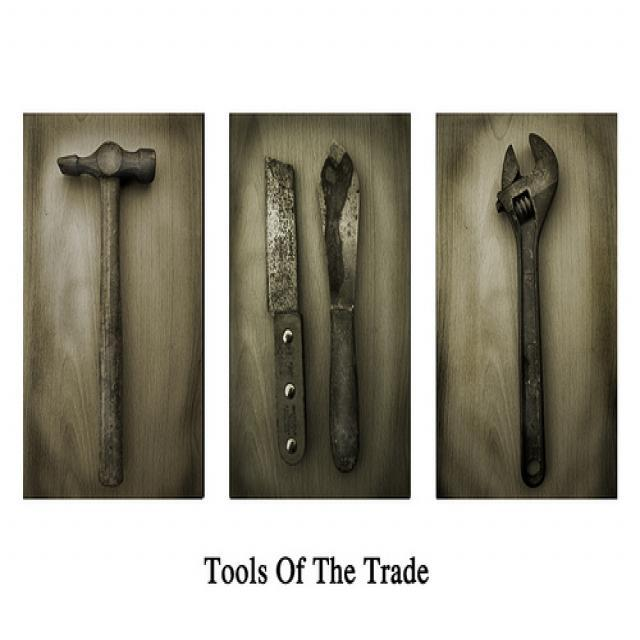hammer: (50, 137, 164, 490)
wrench: (488, 128, 578, 490)
